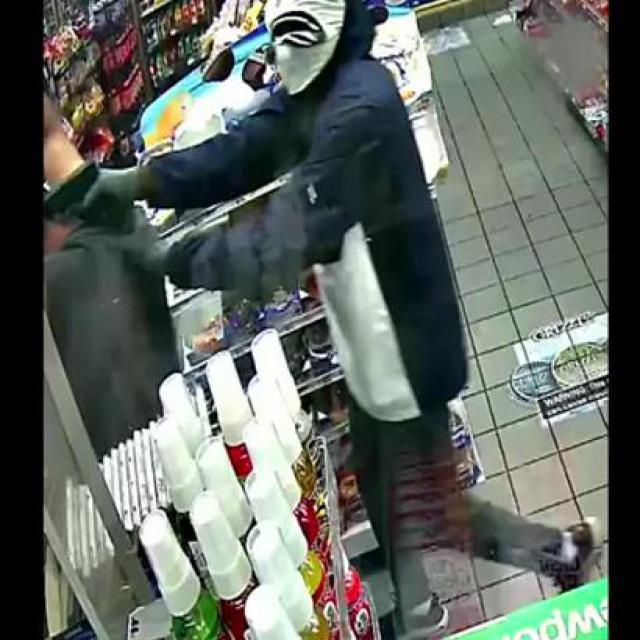gun: (42, 156, 134, 232)
